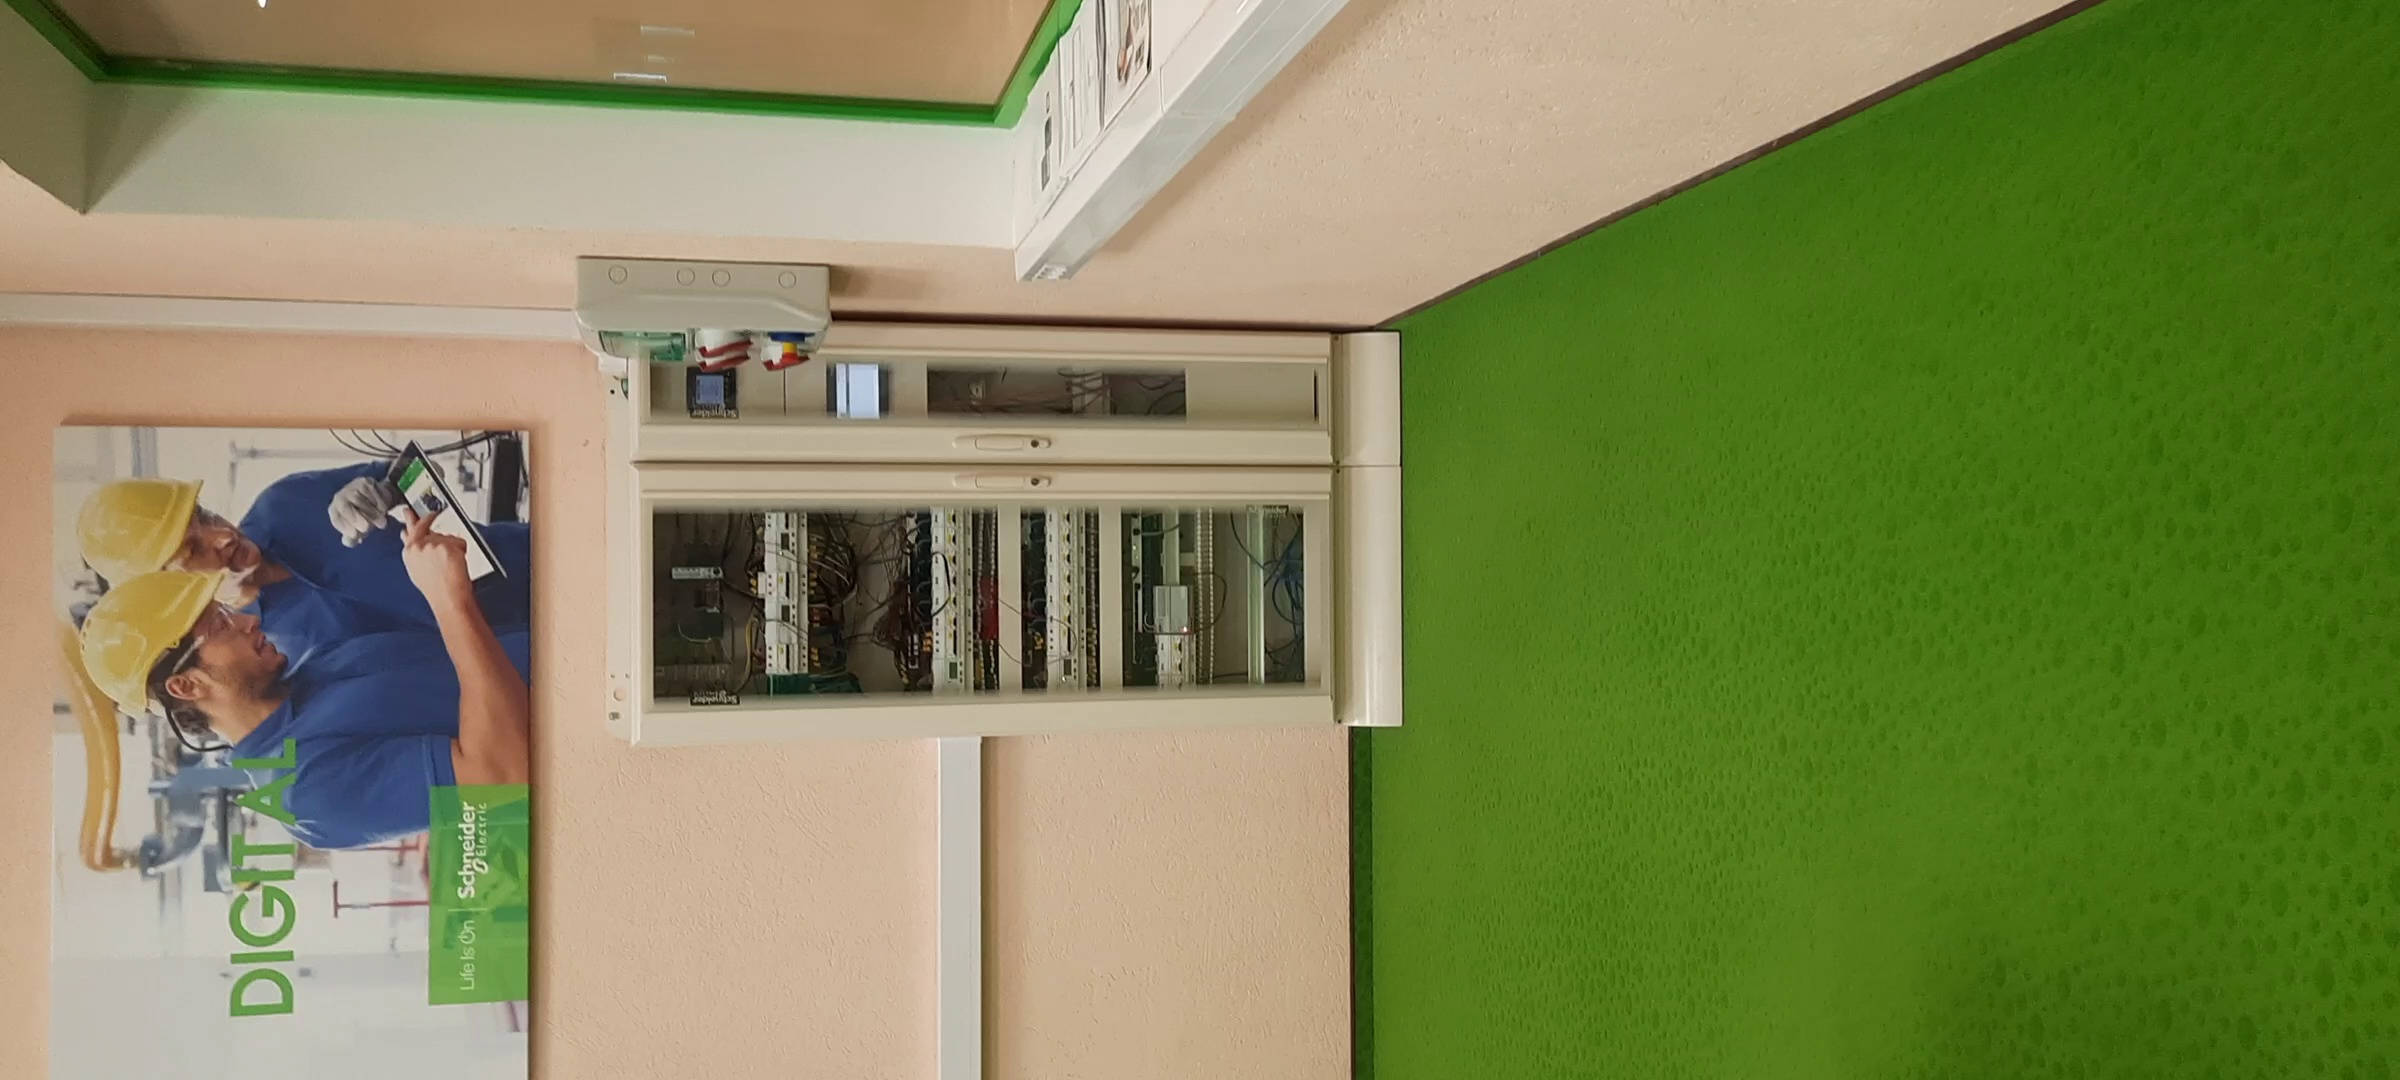stand1: (637, 320, 1404, 724)
